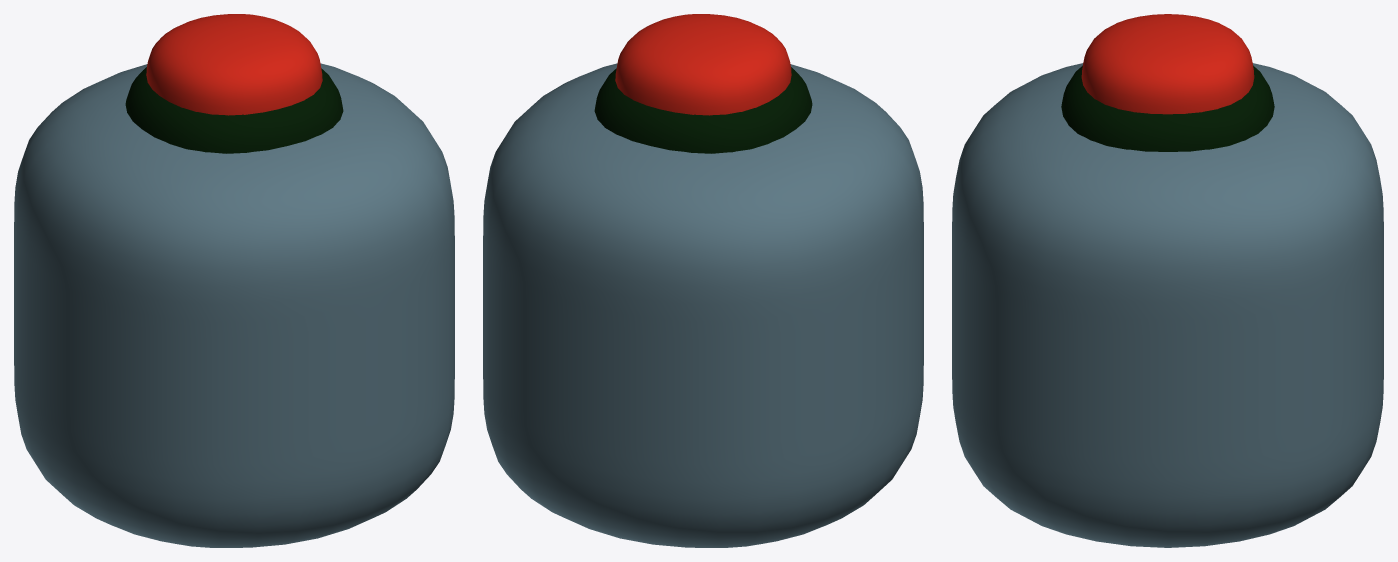
Rendered from button.fbx.
3 renders of one model, left to right at view 1: azimuth 30°, elevation 25°; view 2: azimuth 150°, elevation 25°; view 3: azimuth 270°, elevation 25°, orthographic.
Parts seen in each view (by area): view 1: Cube; view 2: Cube; view 3: Cube.
Boxes of the visible parts, x1,y1,x2,y2 form: Cube: (14, 14, 454, 547); Cube: (483, 14, 923, 547); Cube: (952, 14, 1383, 547).
Size of the model in its own units: 367 by 441 by 367.
